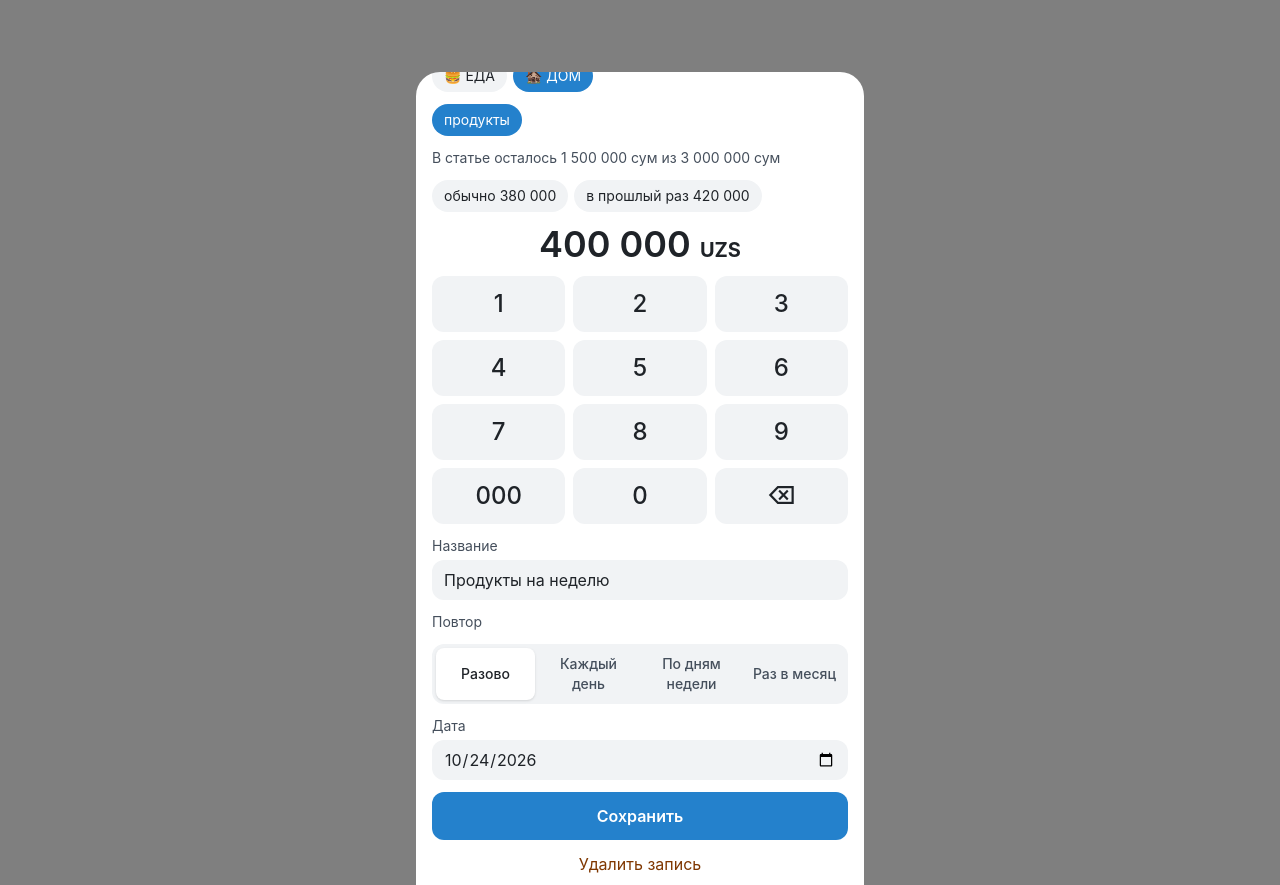
RecordSheet › shows field errors under the fields and others above the button
This screenshot has width=1280, height=885.
(page scrolled)
Click the button "Сохранить" at [640, 816], box [432,792,848,840]
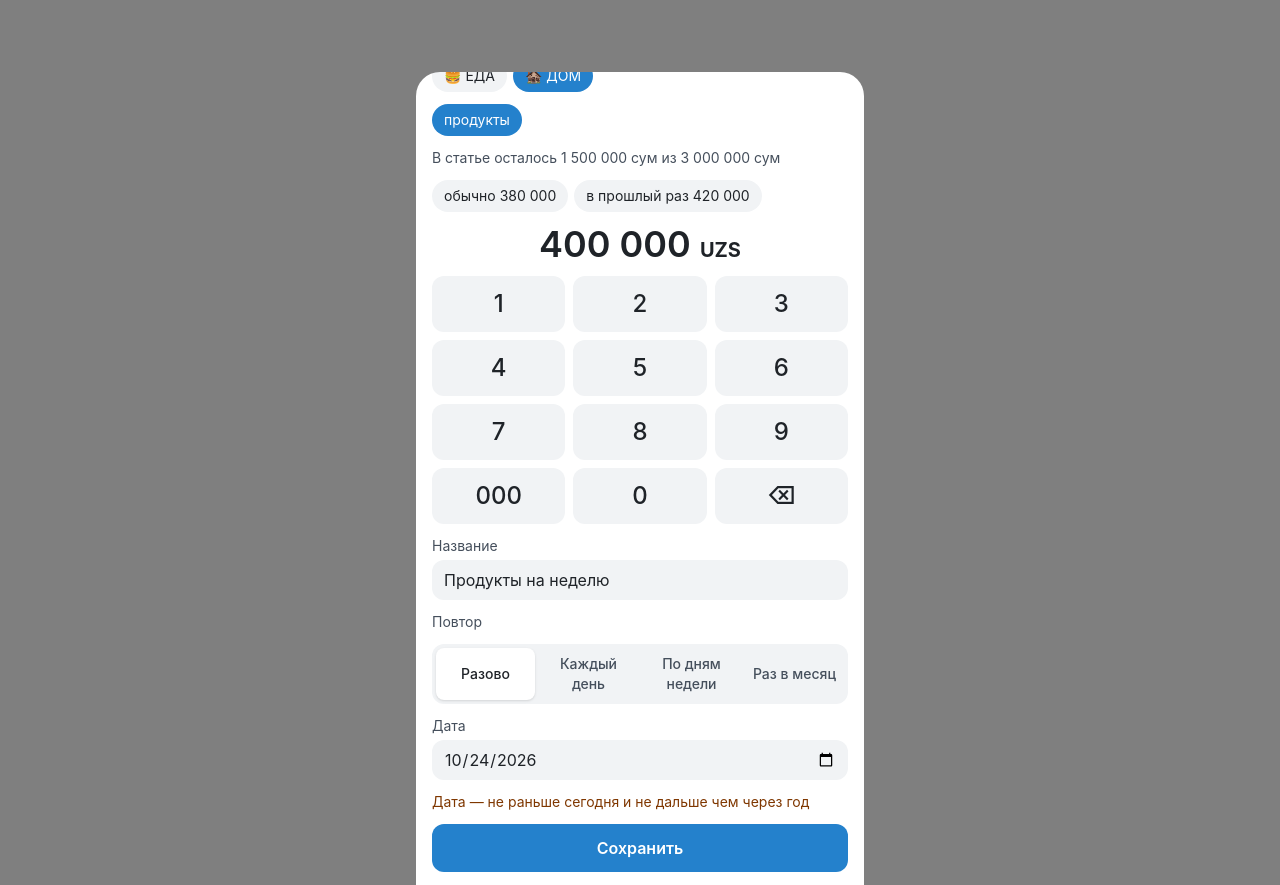
Expected: the text "Дата — не раньше сегодня и не дальше чем через год" is shown, [432,792,848,812]
Click the button "Сохранить" at [640, 848], box [432,824,848,872]
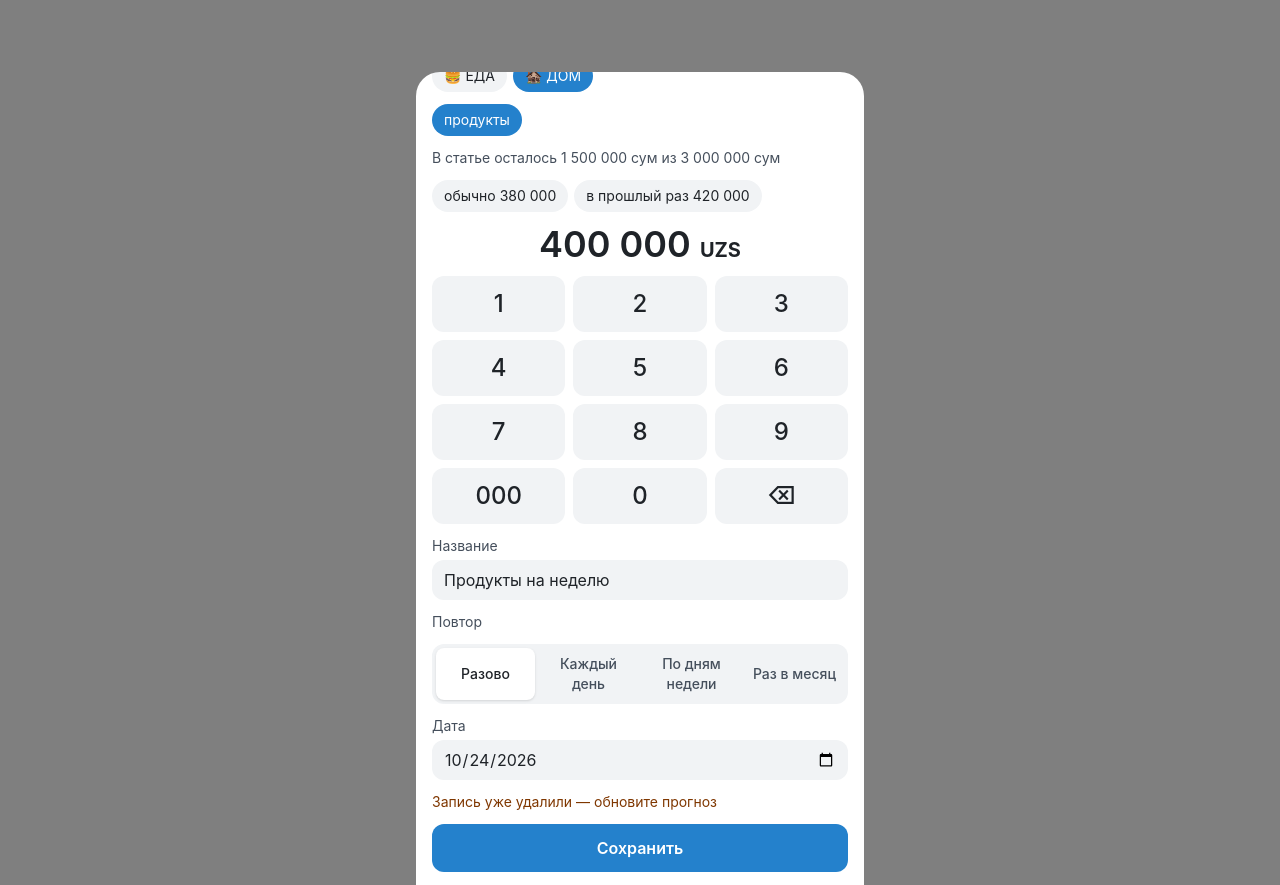
Expected: the message reads "Запись уже удалили — обновите прогноз", [432,793,717,810]
